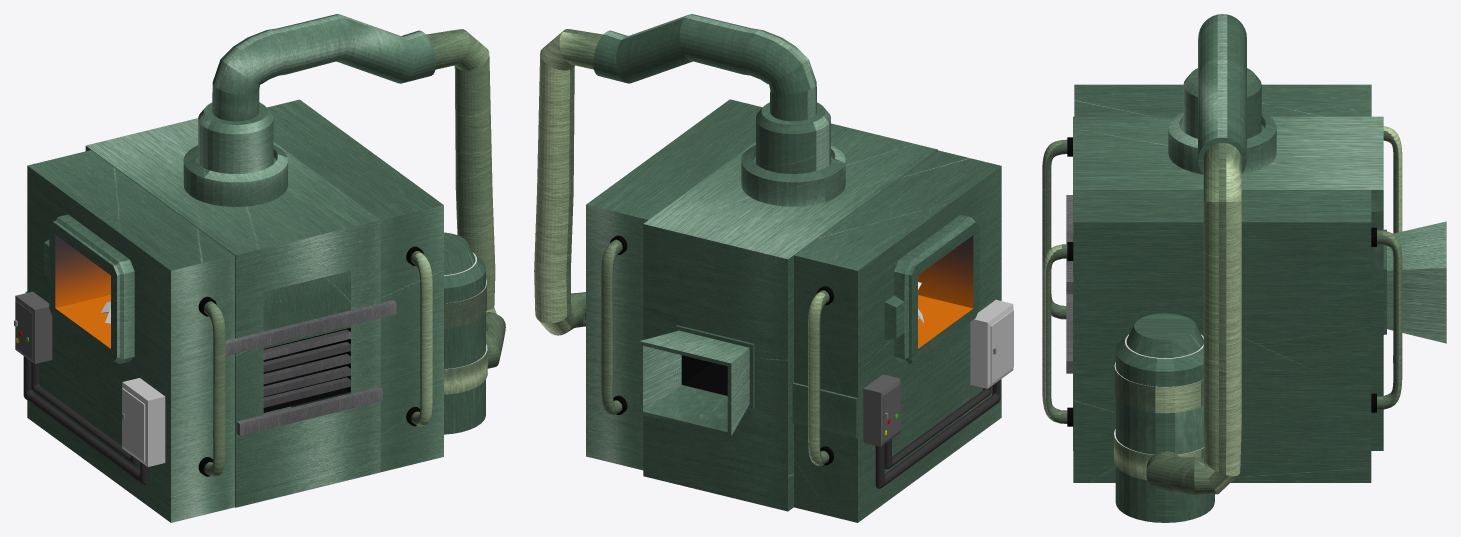
Rendered from Maquina Fundidora de Vidrio.fbx.
The picture shows the model from 3 angles, left to right: view 1: azimuth 30°, elevation 25°; view 2: azimuth 150°, elevation 25°; view 3: azimuth 270°, elevation 25°; orthographic projection. The views are drawn at different scales.
Parts seen in each view (by area): view 1: Maquina Fundidora de Metales.011, Maquina Fundidora de Metales.010, Maquina Fundidora de Metales.007, Maquina Fundidora de Metales.002, Maquina Fundidora de Metales.020, Maquina Fundidora de Metales.005, Maquina Fundidora de Metales.015, Maquina Fundidora de Metales, Maquina Fundidora de Metales.003, Maquina Fundidora de Metales.022, Maquina Fundidora de Metales.009; view 2: Maquina Fundidora de Metales.011, Maquina Fundidora de Metales.010, Maquina Fundidora de Metales.020, Maquina Fundidora de Metales.005, Maquina Fundidora de Metales.015, Maquina Fundidora de Metales, Maquina Fundidora de Metales.012, Maquina Fundidora de Metales.022, Maquina Fundidora de Metales.009; view 3: Maquina Fundidora de Metales.011, Maquina Fundidora de Metales.010, Maquina Fundidora de Metales.007, Maquina Fundidora de Metales.009.
Boxes of the visible parts, bbox=[...] form: Maquina Fundidora de Metales.011: bbox=[25, 14, 485, 522]; Maquina Fundidora de Metales.010: bbox=[204, 29, 505, 476]; Maquina Fundidora de Metales.007: bbox=[225, 300, 396, 435]; Maquina Fundidora de Metales.002: bbox=[263, 329, 350, 407]; Maquina Fundidora de Metales.020: bbox=[122, 378, 165, 466]; Maquina Fundidora de Metales.005: bbox=[55, 235, 110, 308]; Maquina Fundidora de Metales.015: bbox=[15, 291, 52, 363]; Maquina Fundidora de Metales: bbox=[23, 356, 148, 484]; Maquina Fundidora de Metales.003: bbox=[263, 328, 350, 412]; Maquina Fundidora de Metales.022: bbox=[31, 362, 139, 464]; Maquina Fundidora de Metales.009: bbox=[198, 246, 423, 476]; Maquina Fundidora de Metales.011: bbox=[586, 14, 1001, 522]; Maquina Fundidora de Metales.010: bbox=[534, 29, 829, 465]; Maquina Fundidora de Metales.020: bbox=[970, 299, 1013, 388]; Maquina Fundidora de Metales.005: bbox=[918, 235, 973, 308]; Maquina Fundidora de Metales.015: bbox=[863, 374, 900, 446]; Maquina Fundidora de Metales: bbox=[875, 380, 1000, 488]; Maquina Fundidora de Metales.012: bbox=[681, 355, 727, 395]; Maquina Fundidora de Metales.022: bbox=[884, 386, 991, 469]; Maquina Fundidora de Metales.009: bbox=[610, 235, 834, 465]; Maquina Fundidora de Metales.011: bbox=[1073, 14, 1446, 522]; Maquina Fundidora de Metales.010: bbox=[1042, 126, 1402, 495]; Maquina Fundidora de Metales.007: bbox=[1066, 195, 1073, 373]; Maquina Fundidora de Metales.009: bbox=[1067, 137, 1376, 426].
Bounding box in the file's own units: 465 × 425 × 379.
